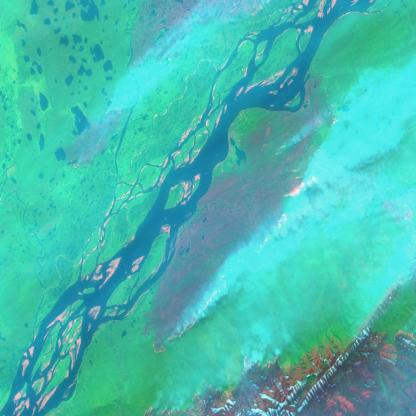fire: (151, 160, 313, 361), (140, 382, 224, 416)
